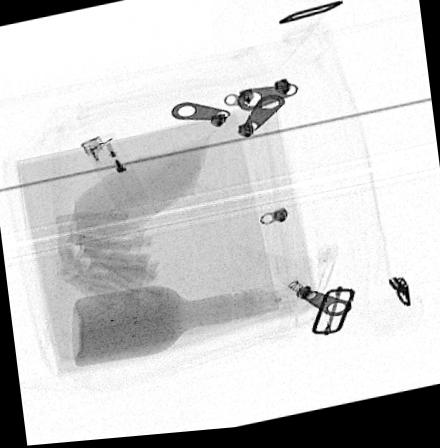Lighter: (79, 133, 146, 207)
